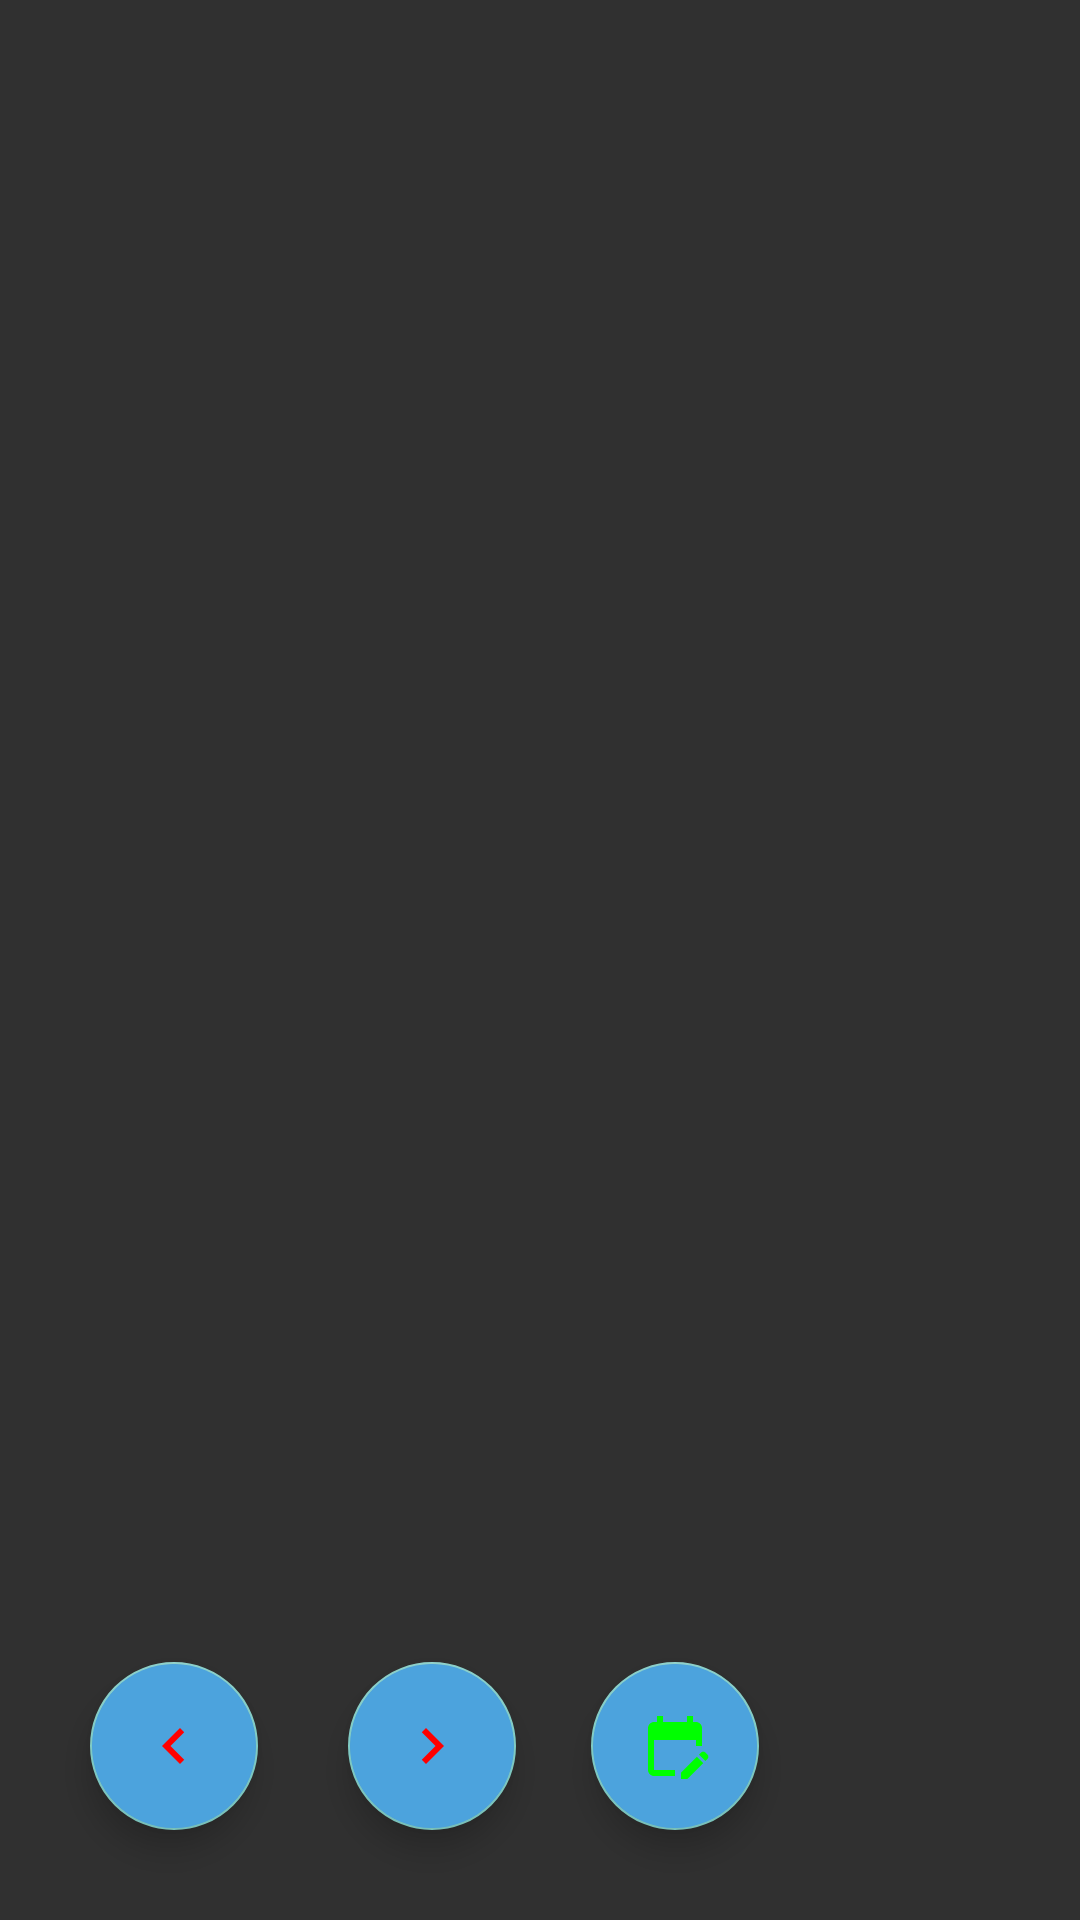

Locate icon controls on the screen. Image size 1080w x 1920h, boxes as (x1, y1, x2, y2).
back: (90, 1662, 258, 1830)
edit calendar: (591, 1662, 759, 1830)
next: (348, 1662, 516, 1830)
